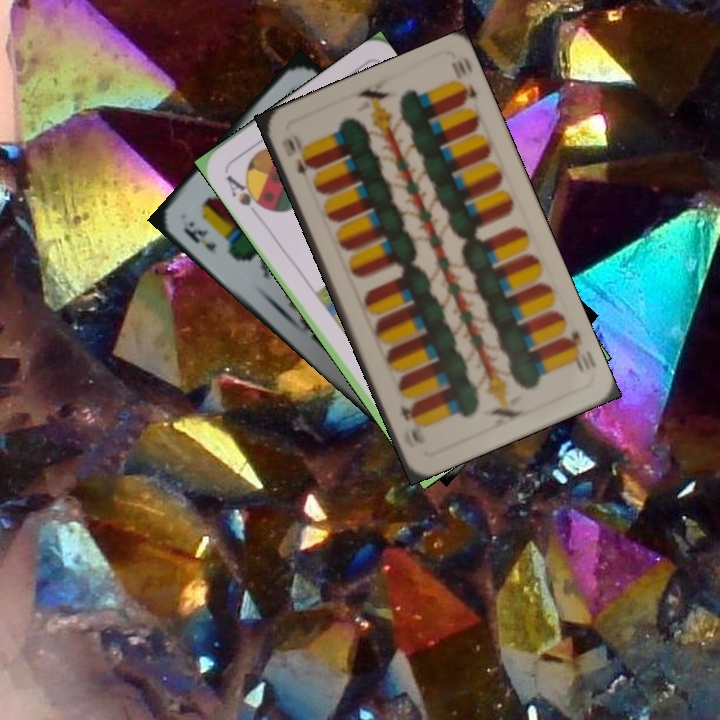E10: (277, 133, 313, 178), (558, 326, 587, 374)
EK: (179, 216, 219, 254)
SA: (221, 171, 268, 212)
